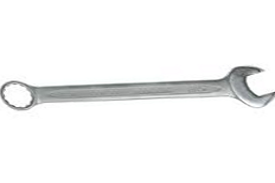wrench: (1, 62, 275, 111)
